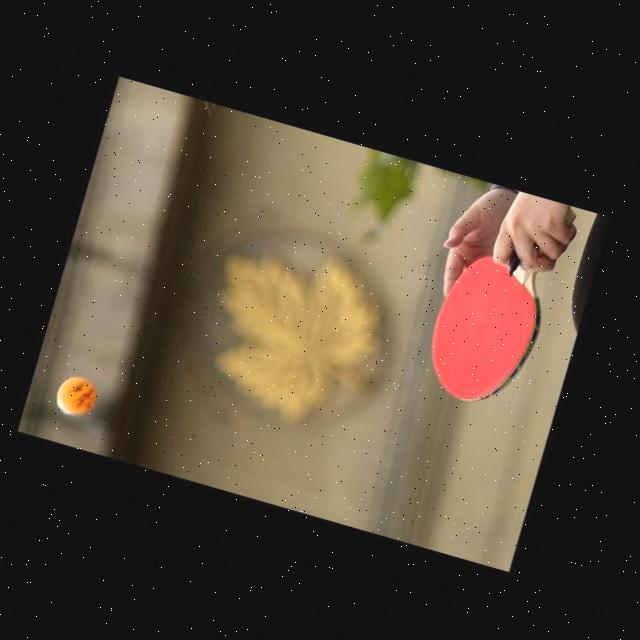ping-pong-ball: (51, 368, 102, 419)
